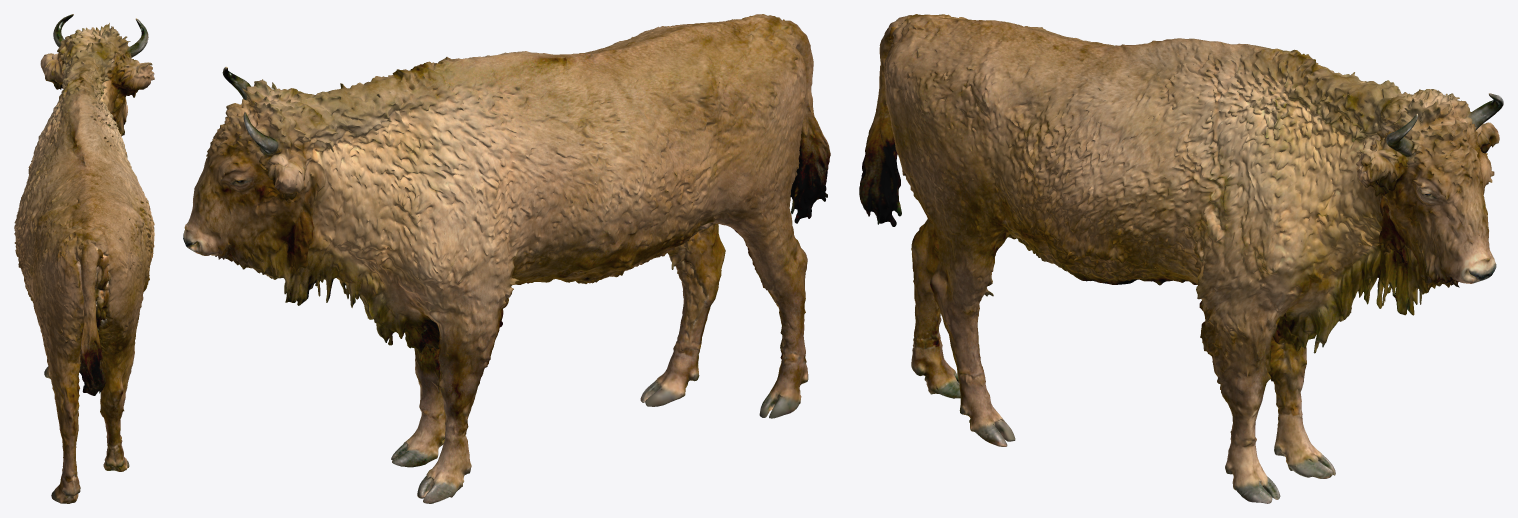
Rendered from european-bison-nhmw.glb.
3 renders of one model, left to right at view 1: azimuth 30°, elevation 25°; view 2: azimuth 150°, elevation 25°; view 3: azimuth 270°, elevation 25°, orthographic. The views are drawn at different scales.
Visible parts, largest first — view 1: Object_3, Object_2, Object_4; view 2: Object_3, Object_2, Object_4; view 3: Object_3, Object_2, Object_4.
Boxes of the visible parts, x1,y1,x2,y2 form: Object_3: (14,96,154,503); Object_2: (40,14,154,379); Object_4: (53,94,146,502); Object_3: (394,14,830,433); Object_2: (183,51,564,503); Object_4: (360,77,796,439); Object_3: (859,14,1334,499); Object_2: (1085,38,1503,503); Object_4: (910,187,1362,410).
Size of the model in its own units: 1.33 by 1.53 by 2.01.
1 material, 1 textured.
